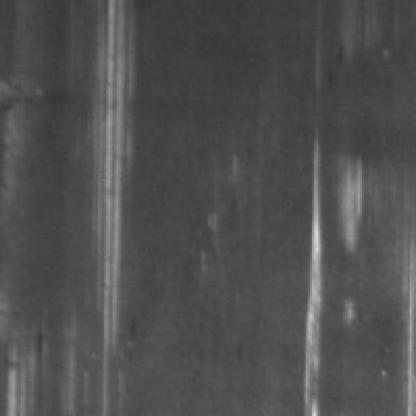scratches: (85, 2, 146, 362), (300, 133, 334, 416)
